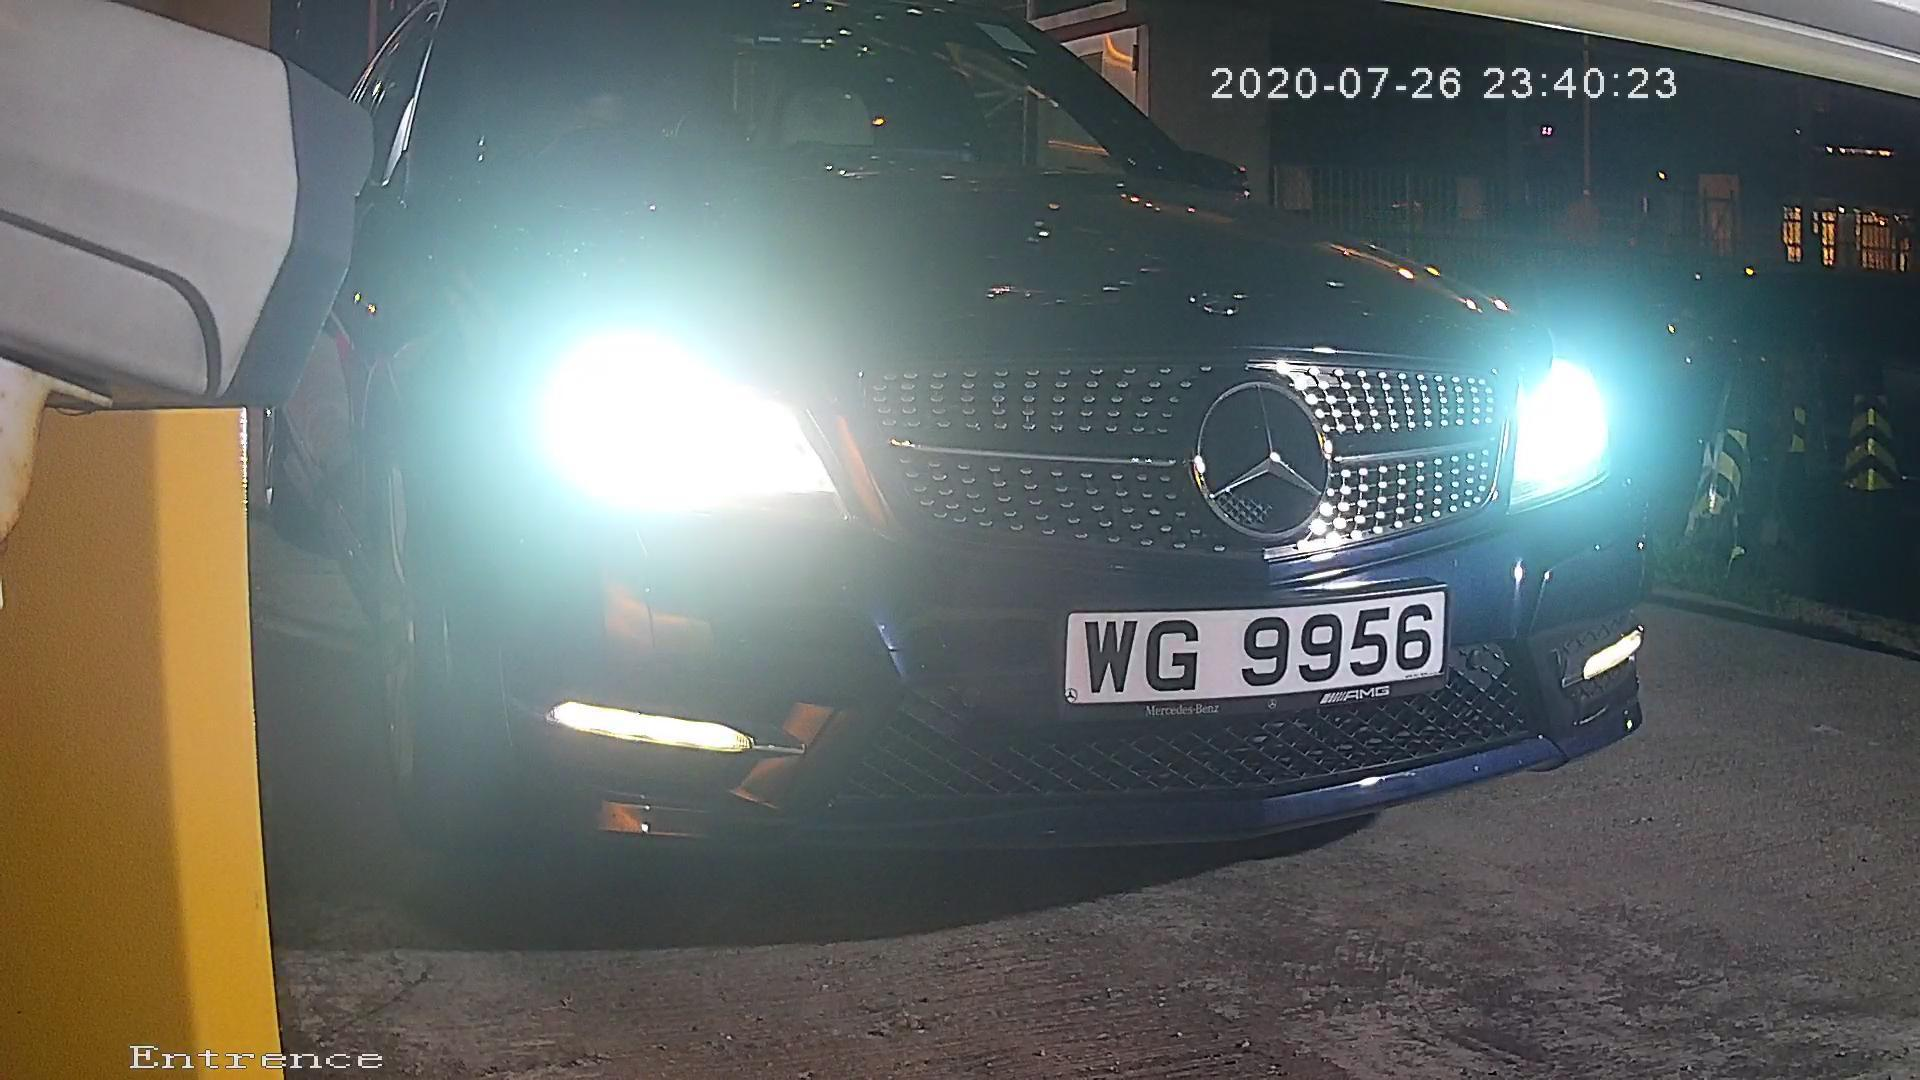Car: (129, 44, 1758, 921)
License Plate: (1046, 574, 1458, 719)
